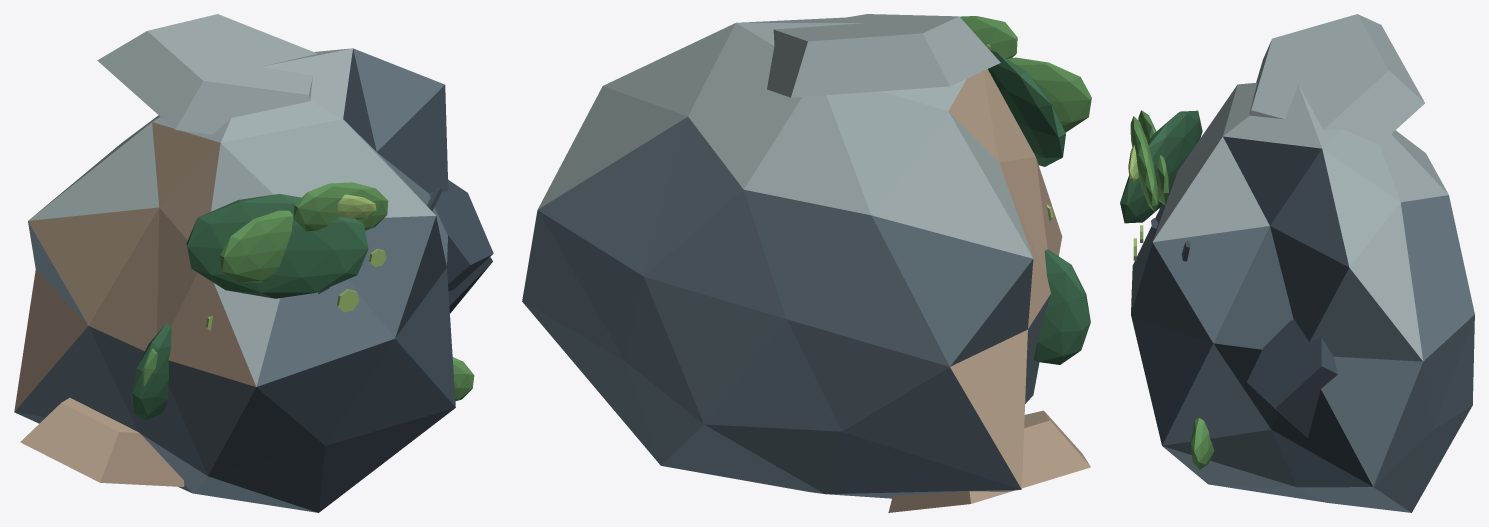
The model's file is low_poly_rock_asset.glb.
The picture shows the model from 3 angles, left to right: view 1: azimuth 30°, elevation 25°; view 2: azimuth 150°, elevation 25°; view 3: azimuth 270°, elevation 25°; orthographic projection. The views are drawn at different scales.
Parts seen in each view (by area): view 1: Hero Boulder, Upper Fracture Slab, Moss Patch 1, Footing Stone, Moss Patch 2, Side Fracture Slab, Moss Patch 3, Moss Patch 5, Moss Patch 4, Moss Patch 7; view 2: Hero Boulder, Upper Fracture Slab, Footing Stone, Moss Patch 5, Moss Patch 1, Moss Patch 2, Moss Patch 3; view 3: Hero Boulder, Upper Fracture Slab, Side Fracture Slab, Moss Patch 1, Moss Patch 3, Moss Patch 7, Moss Patch 2.
Boxes of the visible parts, x1,y1,x2,y2 form: Hero Boulder: [14, 48, 492, 512]; Upper Fracture Slab: [97, 14, 317, 134]; Moss Patch 1: [186, 194, 368, 298]; Footing Stone: [20, 398, 184, 486]; Moss Patch 2: [220, 210, 293, 282]; Side Fracture Slab: [429, 180, 493, 291]; Moss Patch 3: [293, 182, 388, 231]; Moss Patch 5: [131, 323, 171, 420]; Moss Patch 4: [337, 194, 376, 219]; Moss Patch 7: [452, 357, 474, 401]; Hero Boulder: [522, 17, 1062, 498]; Upper Fracture Slab: [767, 14, 1000, 97]; Footing Stone: [888, 410, 1090, 512]; Moss Patch 5: [1033, 249, 1090, 364]; Moss Patch 1: [988, 50, 1065, 166]; Moss Patch 2: [1007, 57, 1091, 132]; Moss Patch 3: [960, 16, 1017, 58]; Hero Boulder: [1131, 82, 1474, 512]; Upper Fracture Slab: [1249, 14, 1424, 144]; Side Fracture Slab: [1247, 319, 1337, 438]; Moss Patch 1: [1120, 110, 1202, 223]; Moss Patch 3: [1130, 116, 1158, 211]; Moss Patch 7: [1191, 418, 1214, 469]; Moss Patch 2: [1138, 110, 1168, 204].
Size of the model in its own units: 4.17 by 3.67 by 2.72.
